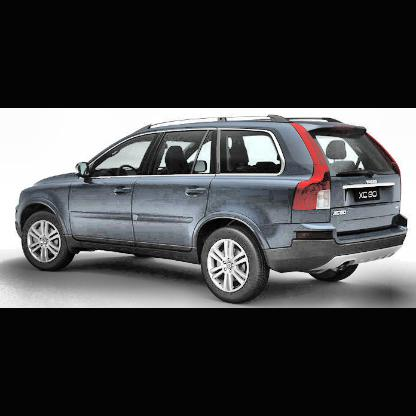Volvo XC90 SUV 2007: (14, 115, 410, 305)
